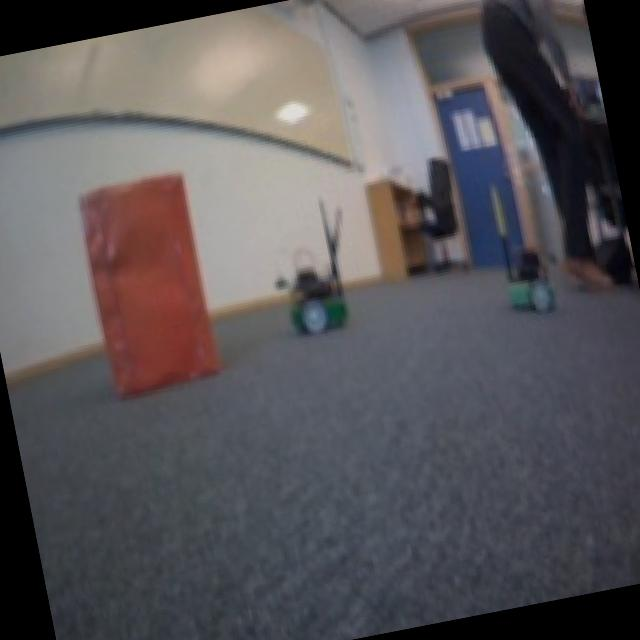robot: (276, 258, 360, 342), (496, 239, 568, 322)
target: (70, 166, 223, 398)
